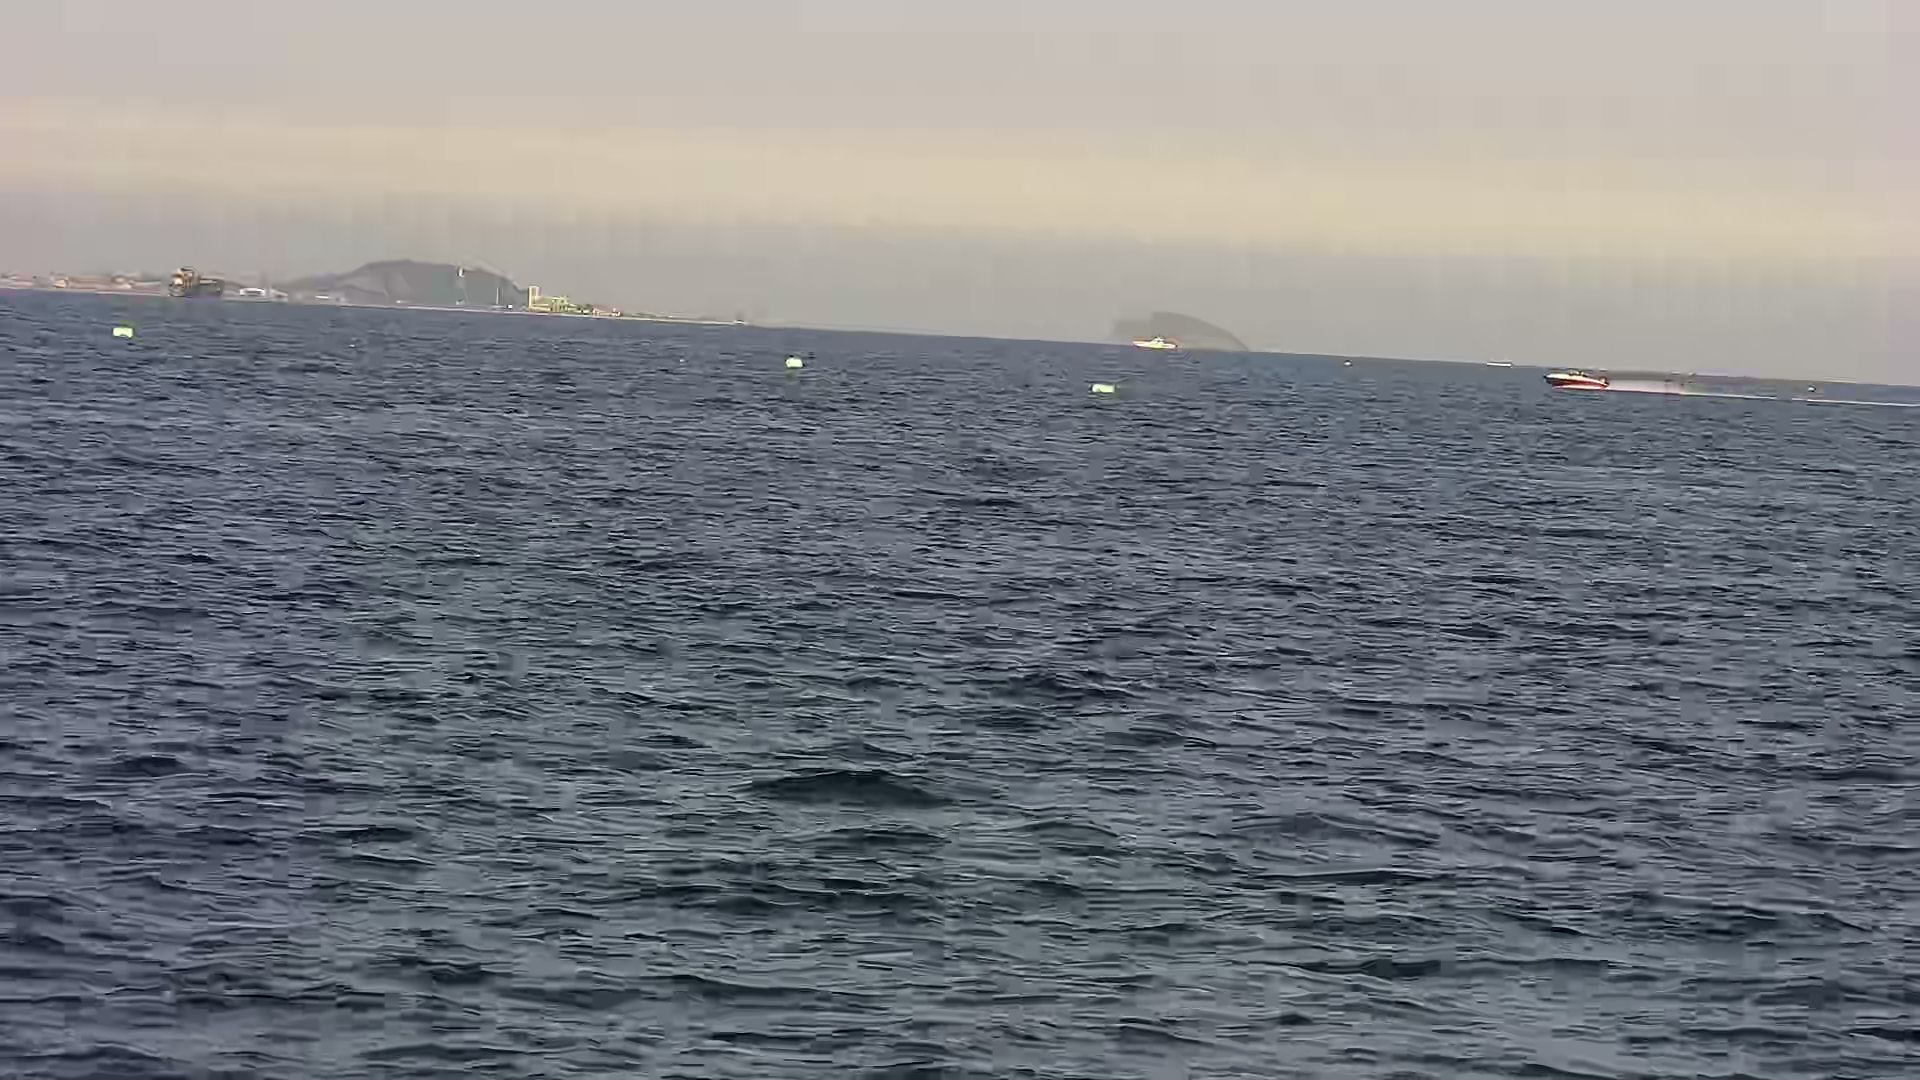ball: (781, 344, 808, 377), (109, 316, 138, 344)
boat: (1540, 355, 1619, 400), (1131, 324, 1182, 367)
rock: (1109, 291, 1257, 355)
